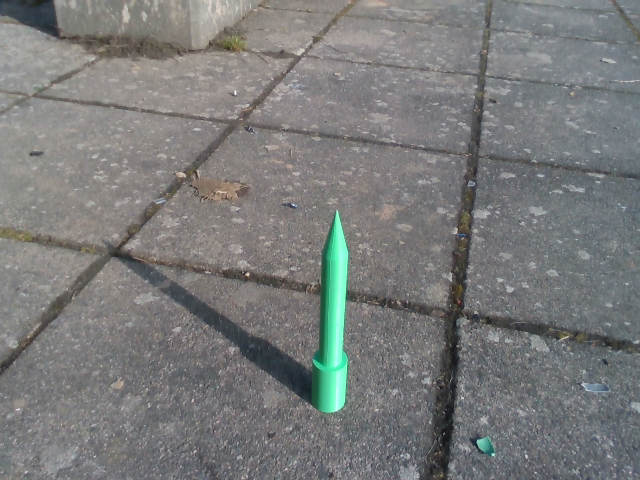Probe: (304, 204, 356, 419)
